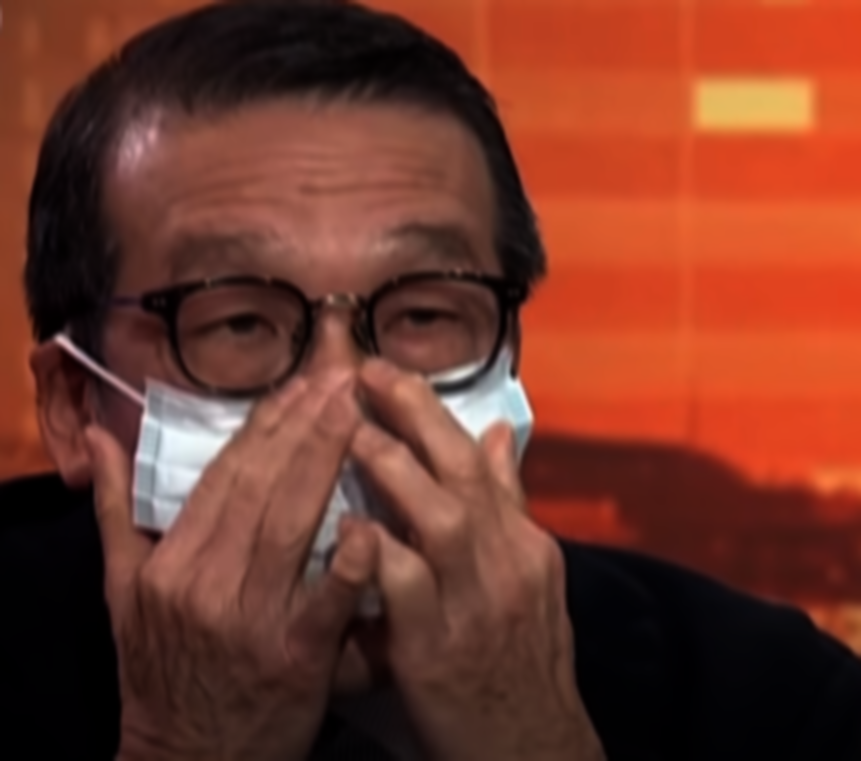mask_weared_incorrect: (22, 26, 534, 704)
